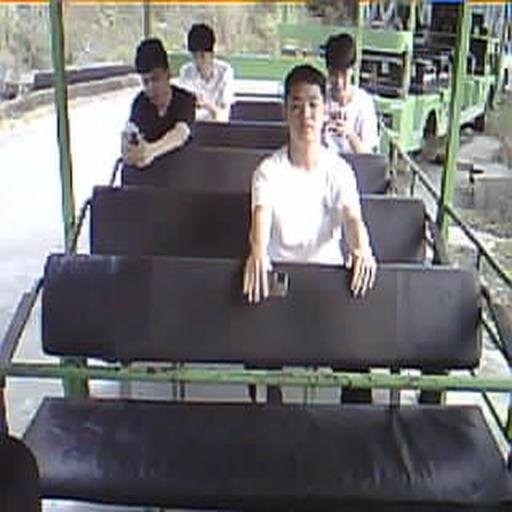persona: (241, 63, 378, 305), (120, 37, 196, 170), (318, 33, 380, 155), (178, 22, 235, 123)
